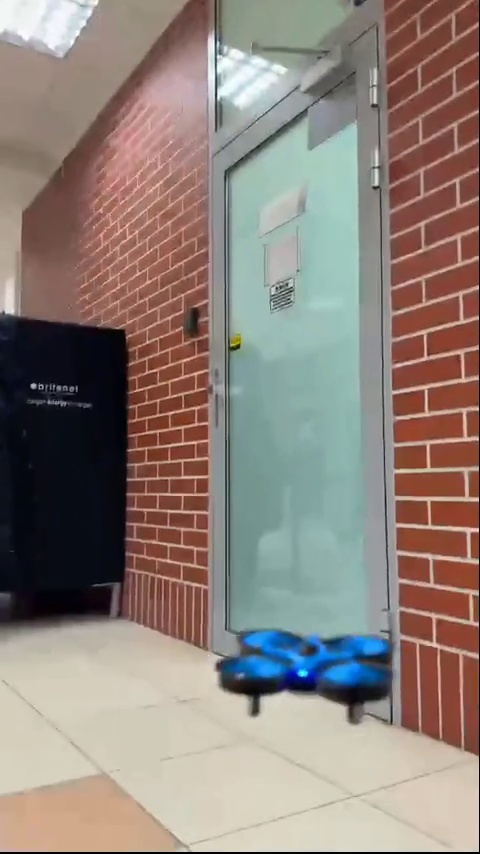drone: (216, 628, 396, 727)
